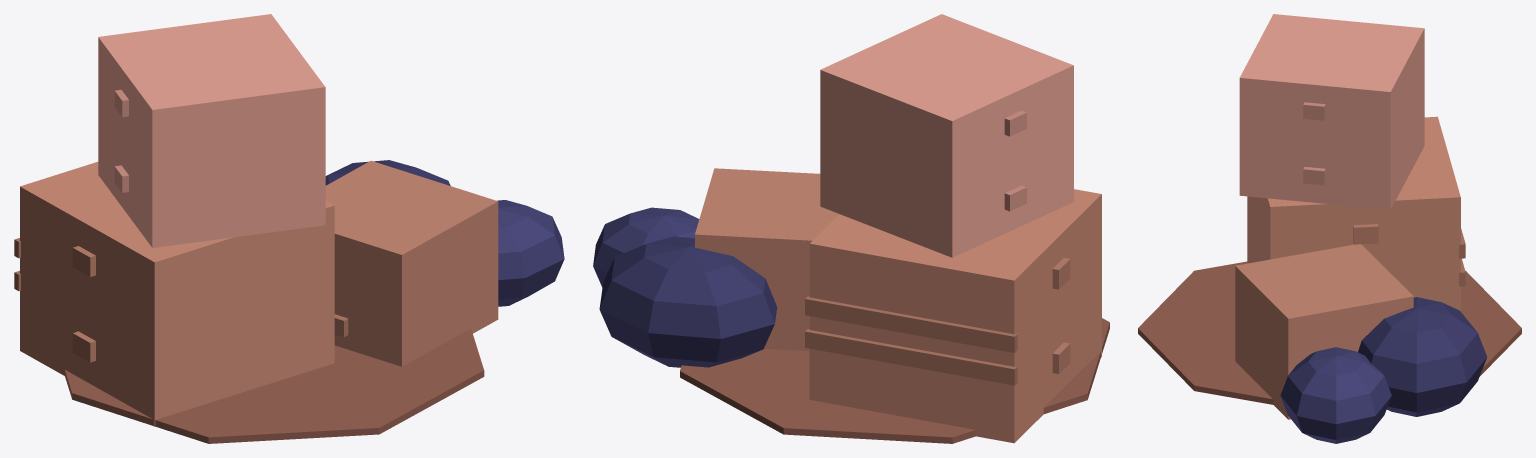
The model's file is prp_crate_stack_a.glb.
3 renders of one model, left to right at view 1: azimuth 30°, elevation 25°; view 2: azimuth 150°, elevation 25°; view 3: azimuth 270°, elevation 25°, orthographic. The views are drawn at different scales.
Parts seen in each view (by area): view 1: lod0__crate_stack_crate_a, lod0__crate_stack_crate_b, lod0__crate_stack_crate_c, lod0__crate_stack_contact, lod0__crate_stack_sack_b, lod0__crate_stack_sack_a, lod0__crate_stack_crate_a_bat1, lod0__crate_stack_crate_a_bat2; view 2: lod0__crate_stack_crate_b, lod0__crate_stack_crate_a, lod0__crate_stack_sack_a, lod0__crate_stack_crate_c, lod0__crate_stack_contact, lod0__crate_stack_crate_a_slat31, lod0__crate_stack_crate_a_slat21, lod0__crate_stack_sack_b; view 3: lod0__crate_stack_crate_b, lod0__crate_stack_crate_c, lod0__crate_stack_crate_a, lod0__crate_stack_contact, lod0__crate_stack_sack_a, lod0__crate_stack_sack_b, lod0__crate_stack_crate_a_bat2, lod0__crate_stack_crate_b_bat1, lod0__crate_stack_crate_b_bat2.
Boxes of the visible parts, box(x1,y1,x2,y2) form: lod0__crate_stack_crate_a: box(20, 162, 334, 426); lod0__crate_stack_crate_b: box(98, 14, 325, 247); lod0__crate_stack_crate_c: box(325, 160, 498, 366); lod0__crate_stack_contact: box(65, 328, 484, 443); lod0__crate_stack_sack_b: box(497, 200, 564, 306); lod0__crate_stack_sack_a: box(325, 160, 450, 185); lod0__crate_stack_crate_a_bat1: box(72, 331, 95, 362); lod0__crate_stack_crate_a_bat2: box(72, 246, 95, 276); lod0__crate_stack_crate_b: box(820, 14, 1073, 257); lod0__crate_stack_crate_a: box(809, 189, 1101, 443); lod0__crate_stack_sack_a: box(599, 236, 777, 367); lod0__crate_stack_crate_c: box(695, 168, 839, 351); lod0__crate_stack_contact: box(680, 318, 1109, 443); lod0__crate_stack_crate_a_slat31: box(805, 296, 1017, 352); lod0__crate_stack_crate_a_slat21: box(805, 329, 1017, 385); lod0__crate_stack_sack_b: box(593, 207, 699, 287); lod0__crate_stack_crate_b: box(1239, 14, 1424, 209); lod0__crate_stack_crate_c: box(1235, 244, 1413, 419); lod0__crate_stack_crate_a: box(1247, 116, 1460, 311); lod0__crate_stack_contact: box(1138, 261, 1521, 404); lod0__crate_stack_sack_a: box(1358, 297, 1486, 416); lod0__crate_stack_sack_b: box(1280, 347, 1391, 443); lod0__crate_stack_crate_a_bat2: box(1353, 224, 1378, 244); lod0__crate_stack_crate_b_bat1: box(1303, 167, 1325, 185); lod0__crate_stack_crate_b_bat2: box(1303, 102, 1325, 120).
Bounding box in the file's own units: 1.57 × 0.9428 × 1.24.
